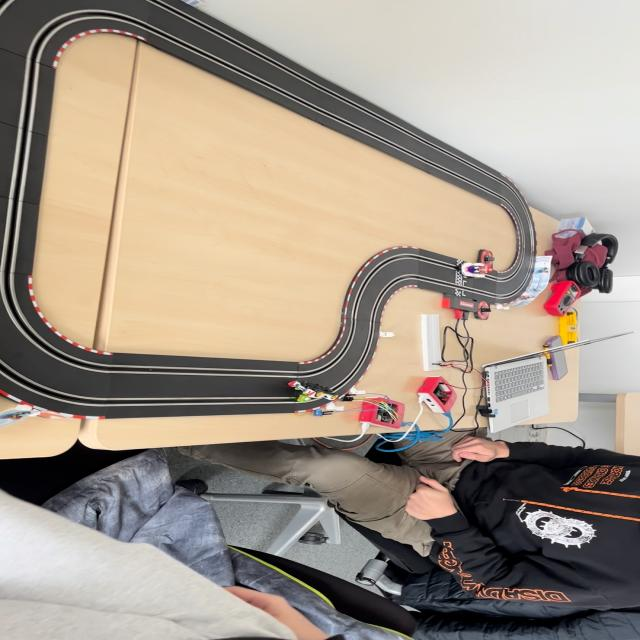mario: (459, 261, 495, 280)
yoshi: (286, 377, 340, 405)
